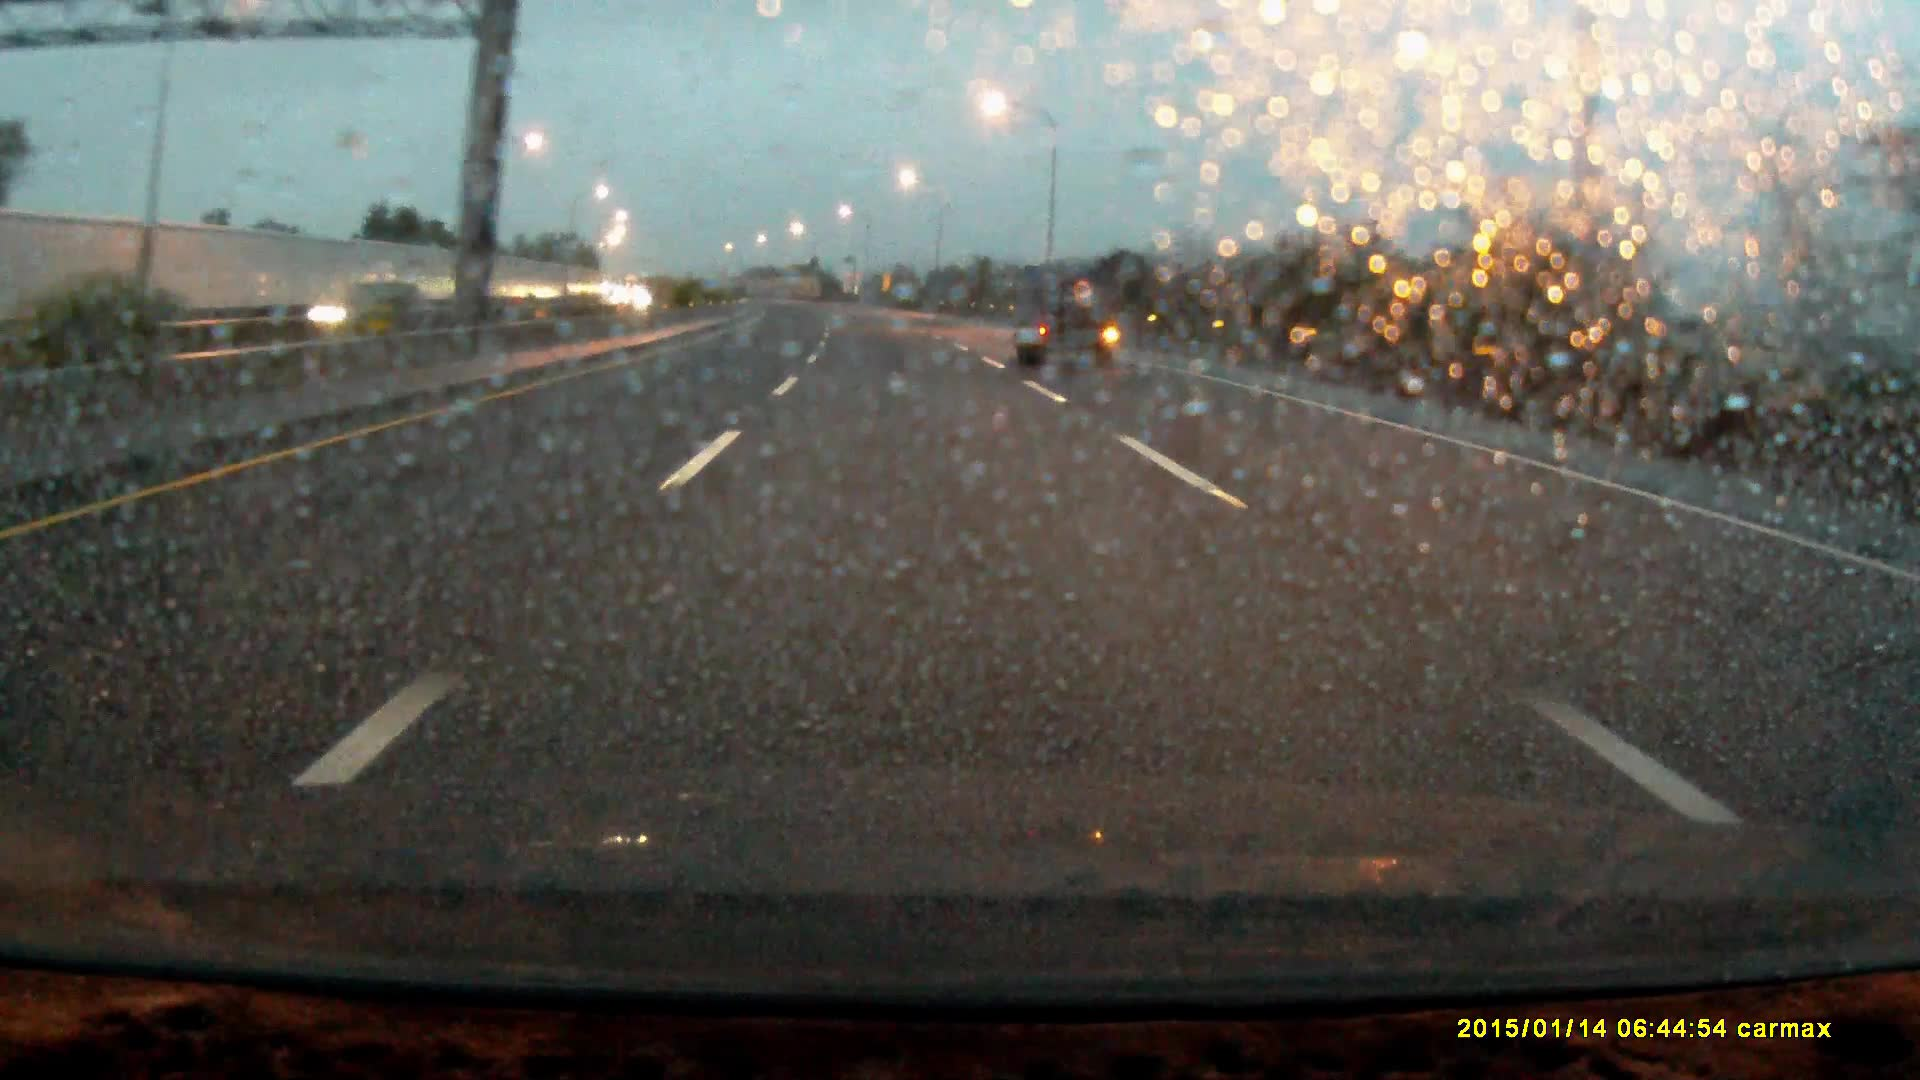vehicle: (232, 280, 378, 348), (1013, 276, 1113, 375), (593, 282, 659, 316)
